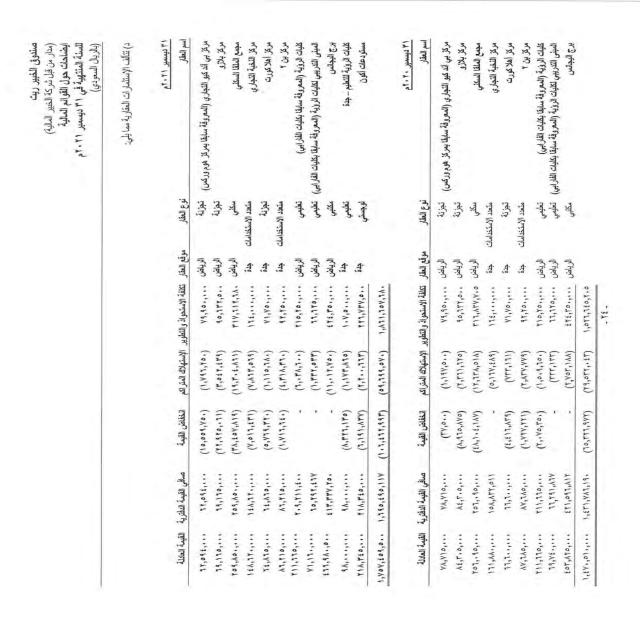notes: (60, 42, 68, 128)
table: (144, 35, 612, 598)
